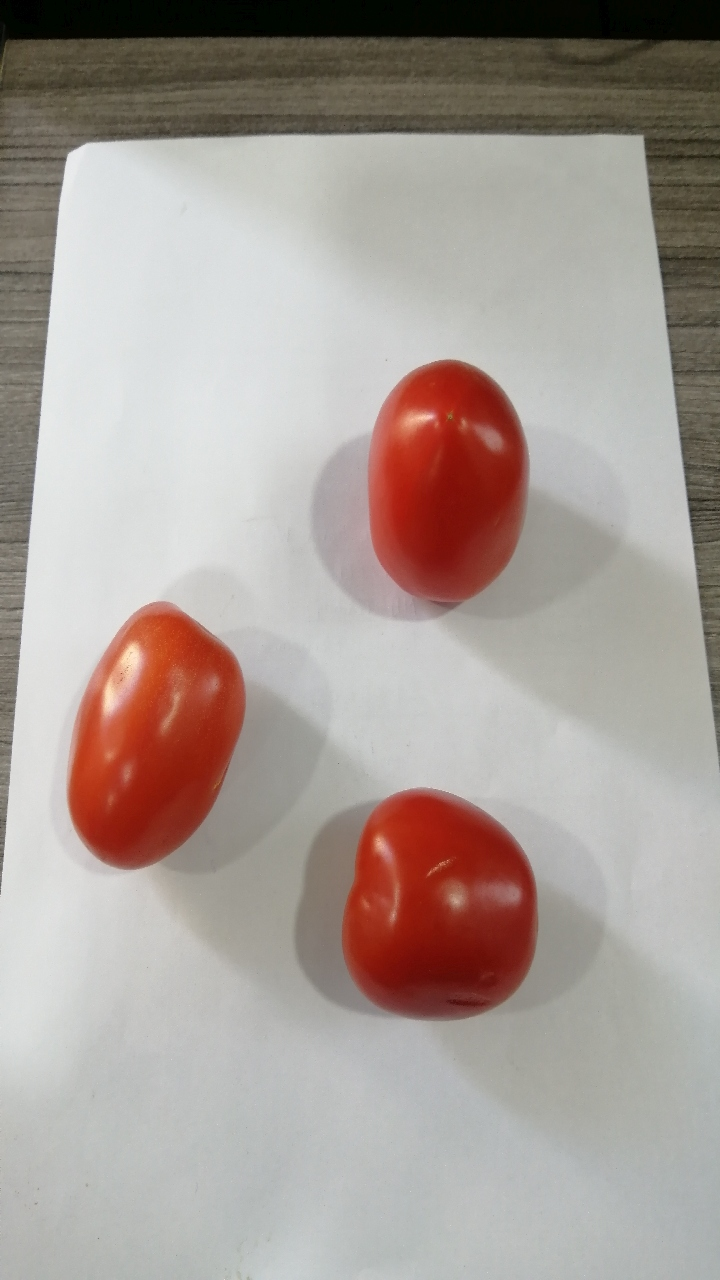tomateRojo: (329, 340, 551, 615), (48, 591, 255, 877), (328, 762, 537, 1034)
